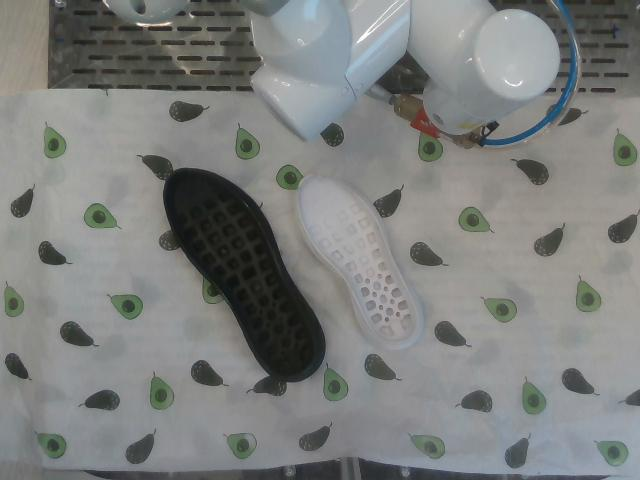shoes: (165, 170, 315, 377), (298, 175, 417, 342)
